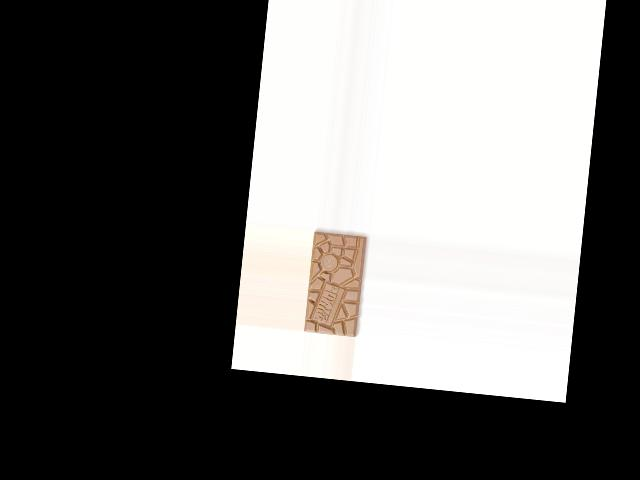chocolate: (304, 230, 369, 338)
